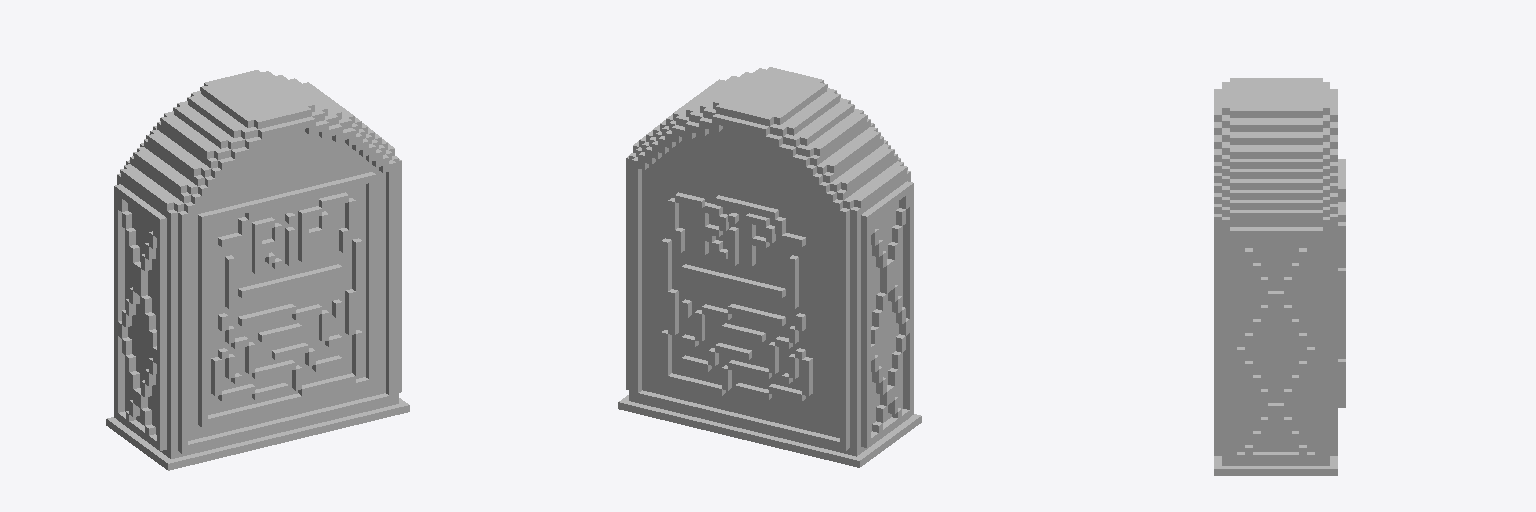
The model's file is nadgrobie.obj.
3 renders of one model, left to right at view 1: azimuth 30°, elevation 25°; view 2: azimuth 150°, elevation 25°; view 3: azimuth 270°, elevation 25°, orthographic.
Parts seen in each view (by area): view 1: object 1; view 2: object 1; view 3: object 1.
Boxes of the visible parts, box(x1,y1,x2,y2) form: object 1: box(106, 70, 409, 470); object 1: box(618, 67, 921, 467); object 1: box(1214, 78, 1345, 475).
Size of the model in its own units: 3.6 by 4.6 by 1.7.